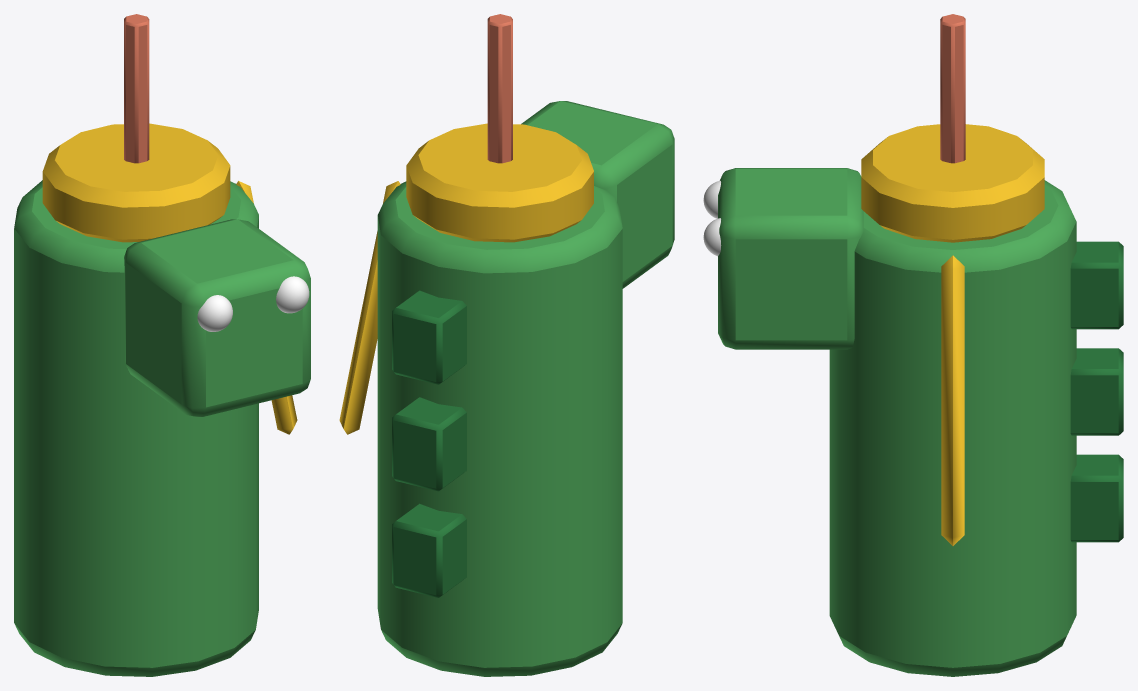
Rendered from BinhNuocHocSinh.glb.
The picture shows the model from 3 angles, left to right: view 1: azimuth 30°, elevation 25°; view 2: azimuth 150°, elevation 25°; view 3: azimuth 270°, elevation 25°; orthographic projection.
Parts seen in each view (by area): view 1: BinhNuocHocSinh; view 2: BinhNuocHocSinh; view 3: BinhNuocHocSinh.
Boxes of the visible parts, x1,y1,x2,y2 form: BinhNuocHocSinh: (14, 14, 310, 676); BinhNuocHocSinh: (339, 14, 674, 676); BinhNuocHocSinh: (703, 14, 1123, 676).
Bounding box in the file's own units: 0.1051 × 0.23 × 0.1429.
